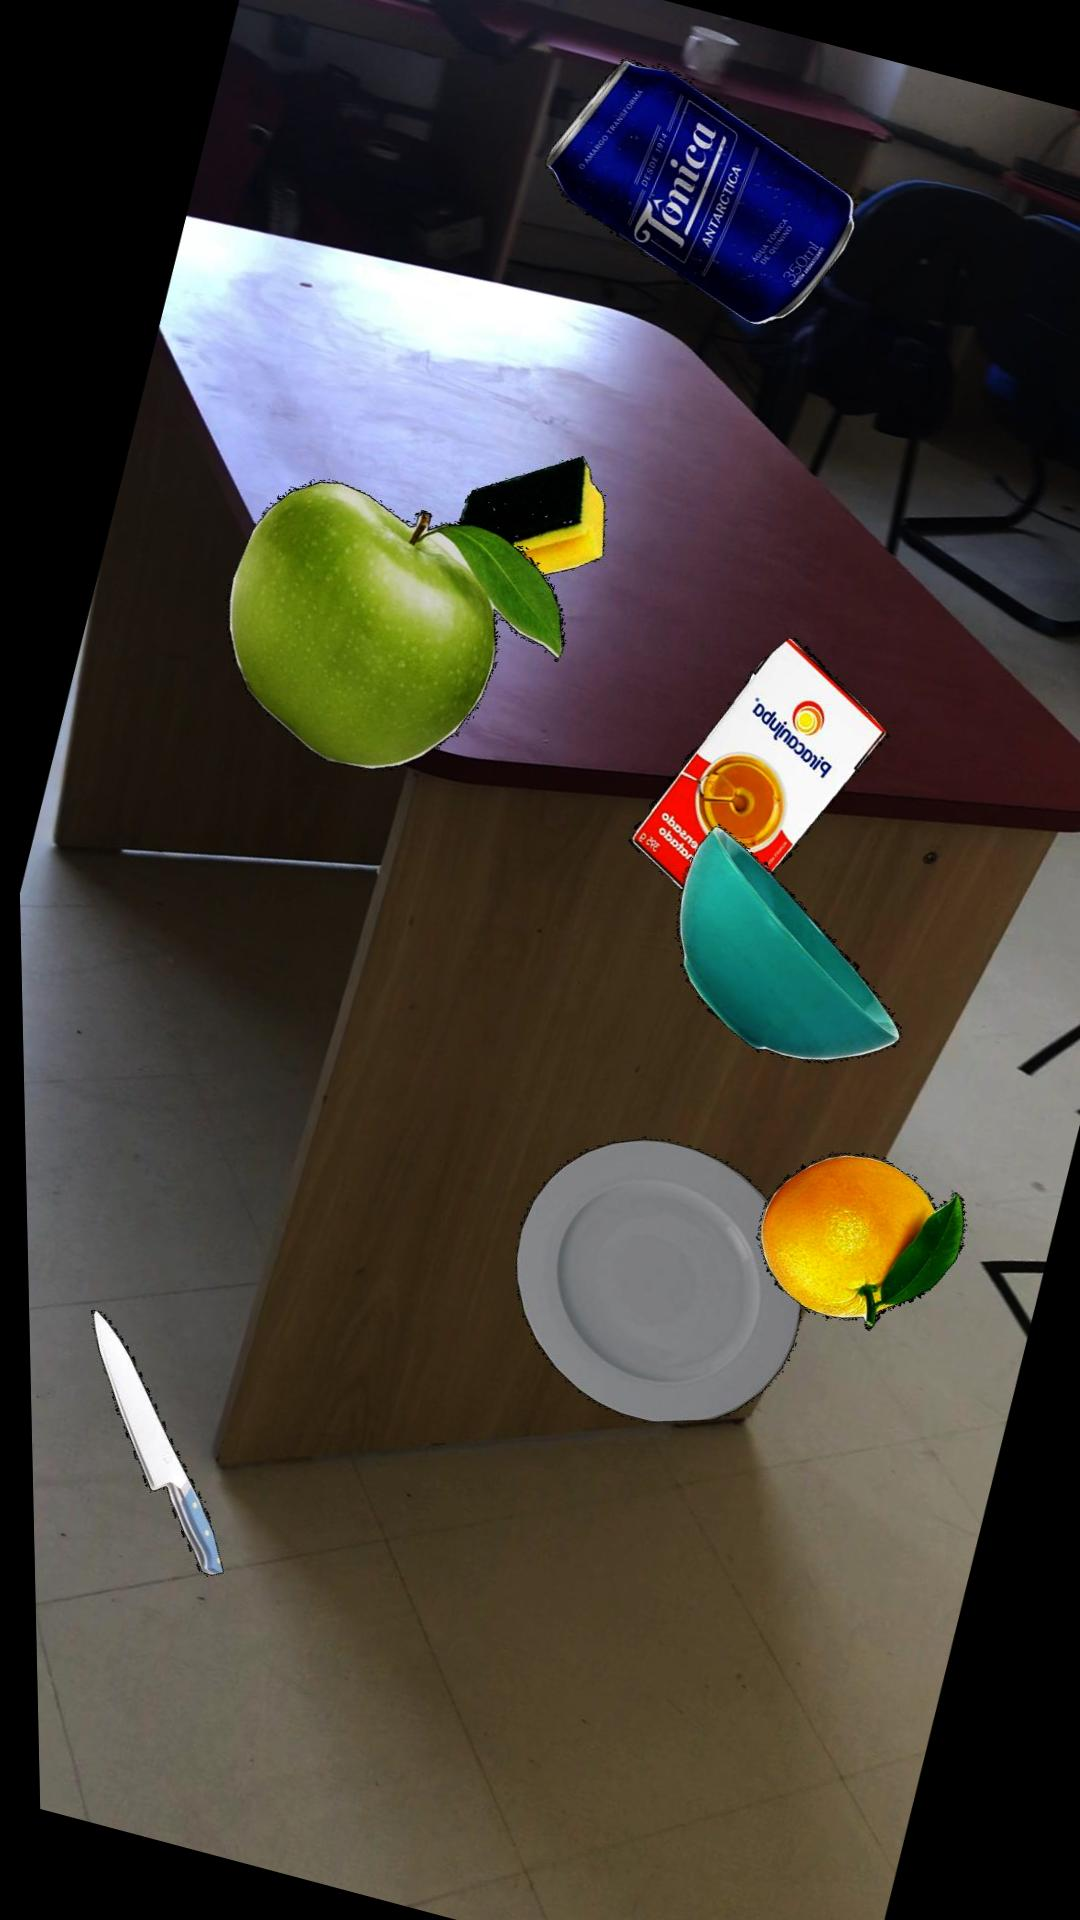bowl: (673, 824, 897, 1062)
green apple: (224, 479, 563, 769)
knife: (86, 1308, 218, 1573)
orange: (756, 1151, 960, 1329)
plate: (510, 1137, 796, 1420)
sponge: (459, 454, 605, 574)
tonic: (545, 58, 857, 323)
